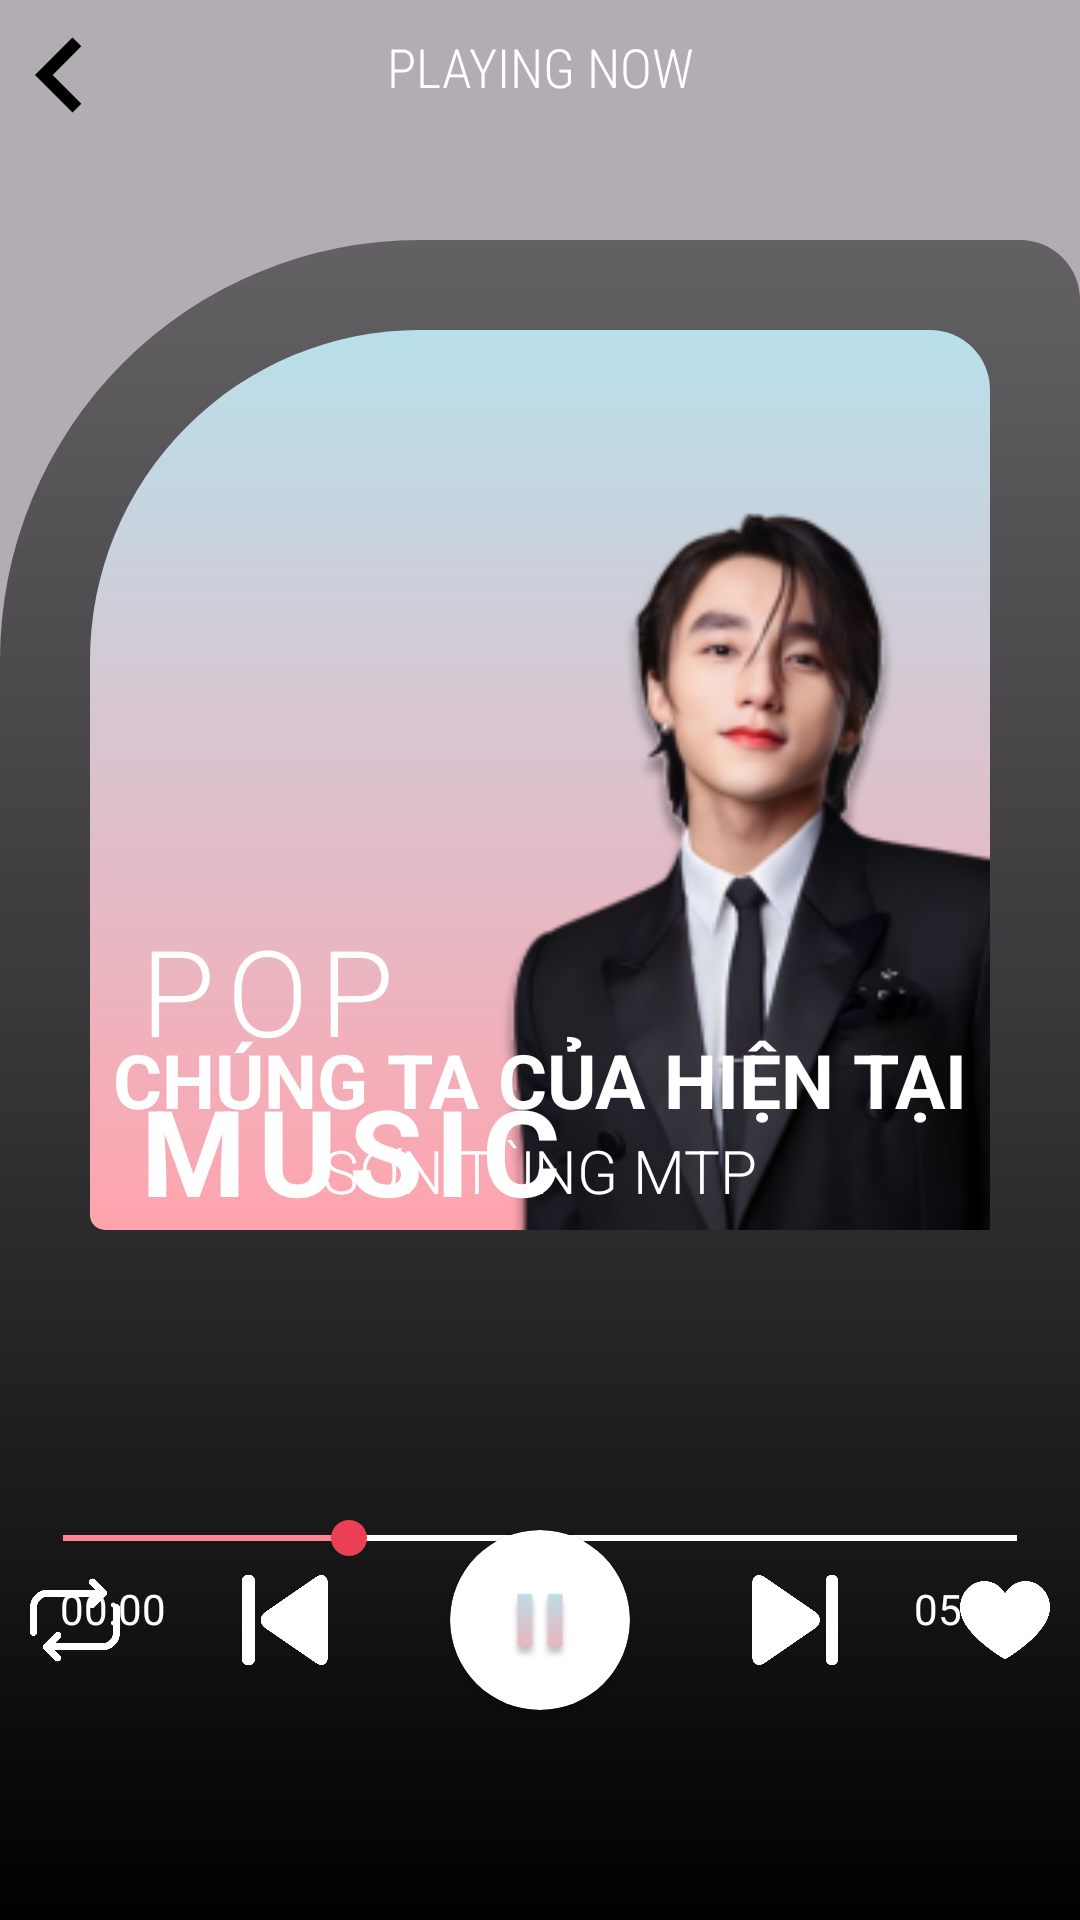

Where icons sit on this 1080×1920 app screen, as detection(x1, y1, x2, y2):
heart: detection(960, 1581, 1050, 1659)
next: detection(752, 1575, 838, 1665)
previous: detection(242, 1575, 328, 1665)
